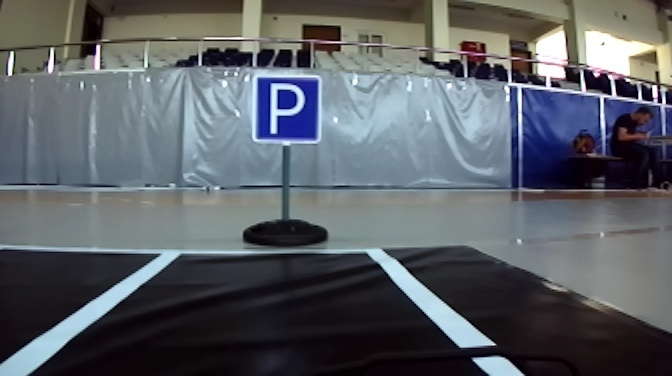park: (250, 72, 321, 145)
